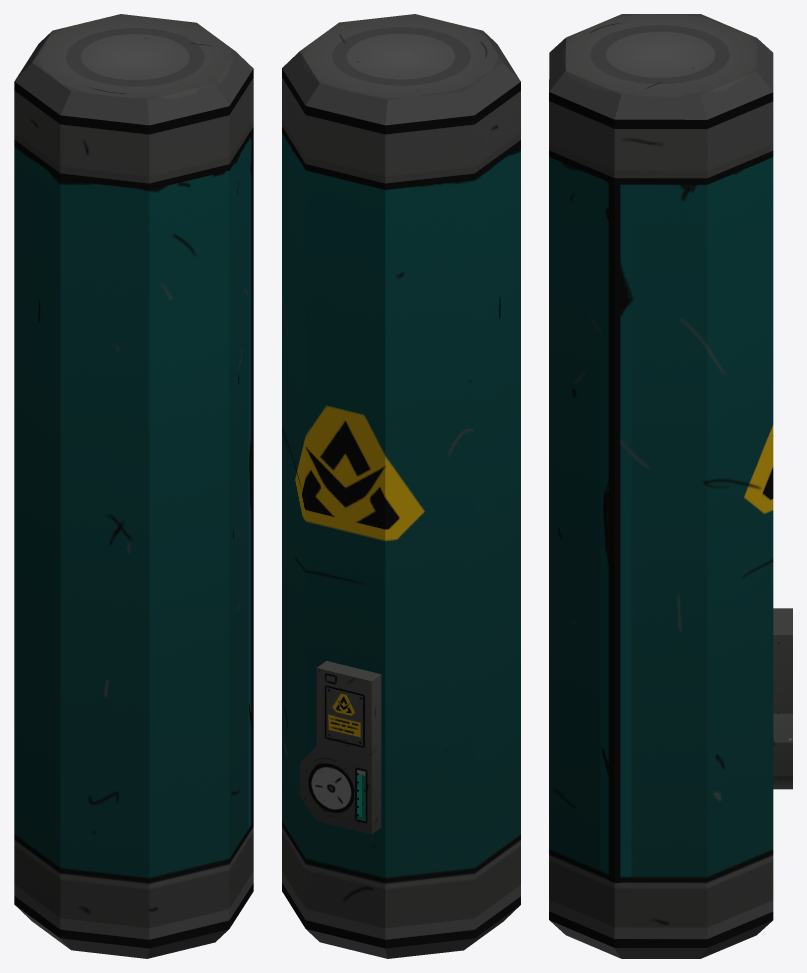
Rendered from mod_mod_bp_cylinder02.fbx.
3 views of the same model, side by side, from view 1: azimuth 30°, elevation 25°; view 2: azimuth 150°, elevation 25°; view 3: azimuth 270°, elevation 25° (orthographic).
Parts seen in each view (by area): view 1: mod_mod_bp_canister01; view 2: mod_mod_bp_canister01; view 3: mod_mod_bp_canister01.
Part boxes in pixels (x1,y1,x2,y2): mod_mod_bp_canister01: (14,14,253,958); mod_mod_bp_canister01: (282,14,520,958); mod_mod_bp_canister01: (549,14,792,958).
Bounding box in the file's own units: 13.53 × 57.5 × 14.71.
